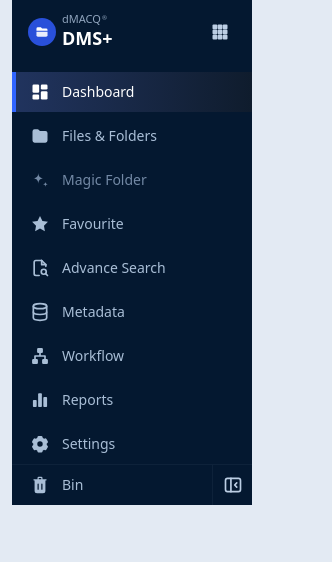
Sidebar tooltips for the icons that have no words › shows the name of a rail item on hover, and takes it away when the pointer leaves
Click the button named "Collapse sidebar" at (232, 485), box left=212, top=465, right=252, bottom=505
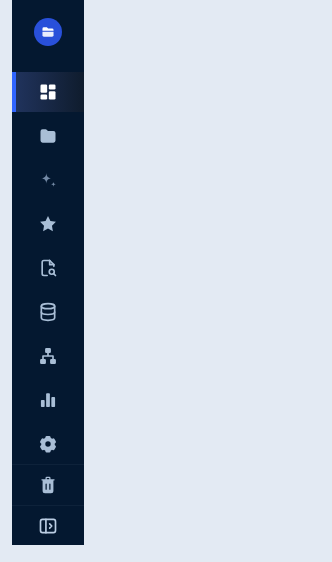
Hover over the 7th link named "Workflow" at (48, 356), box left=12, top=336, right=84, bottom=376
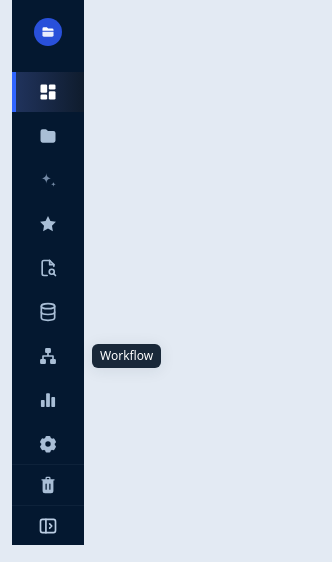
Result: the text with test id "sidebar-tooltip" reads "Workflow" at left=100, top=347, right=153, bottom=364
Move the pointer off the 7th link named "Workflow", box left=12, top=336, right=84, bottom=376
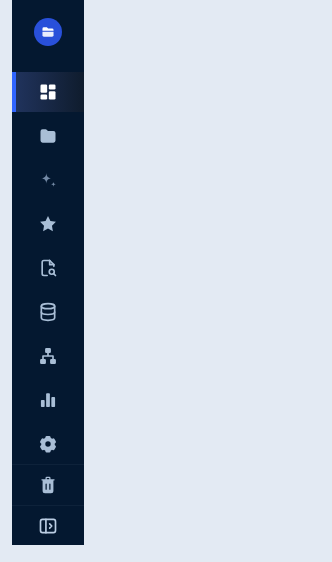
Result: the text with test id "sidebar-tooltip" is gone
